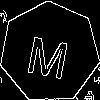M: (24, 27, 73, 80)
